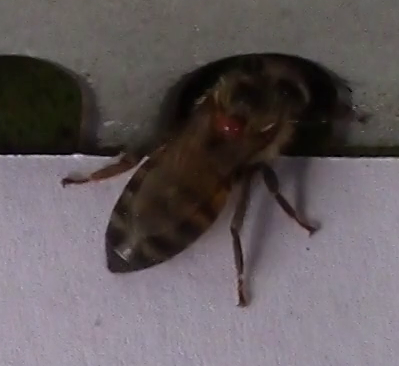Varroa destructor: (208, 110, 249, 143)
